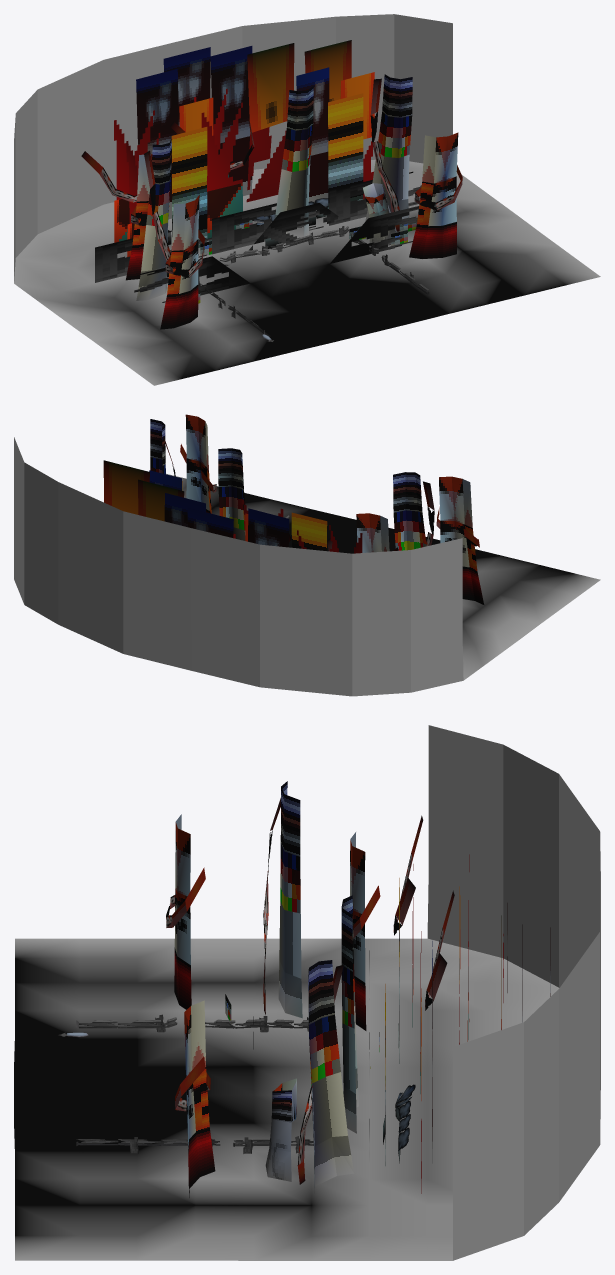
The picture shows the model from 3 angles, top to bottom: view 1: azimuth 30°, elevation 25°; view 2: azimuth 150°, elevation 25°; view 3: azimuth 270°, elevation 25°; orthographic projection. The views are drawn at different scales.
Parts seen in each view (by area): view 1: extra_36c0, extra_108c, extra_46f4, extra_45c4, extra_4830; view 2: extra_36c0, extra_108c; view 3: extra_36c0, extra_108c, extra_4830.
Boxes of the visible parts, bbox=[...] form: extra_36c0: bbox=[14, 14, 600, 385]; extra_108c: bbox=[81, 40, 462, 329]; extra_46f4: bbox=[95, 171, 421, 282]; extra_45c4: bbox=[134, 203, 418, 302]; extra_4830: bbox=[198, 226, 429, 334]; extra_36c0: bbox=[14, 437, 600, 696]; extra_108c: bbox=[103, 414, 484, 604]; extra_36c0: bbox=[14, 725, 600, 1260]; extra_108c: bbox=[166, 781, 550, 1197]; extra_4830: bbox=[76, 1014, 313, 1153].
Size of the model in its own units: 12.45 by 4.03 by 9.58.
